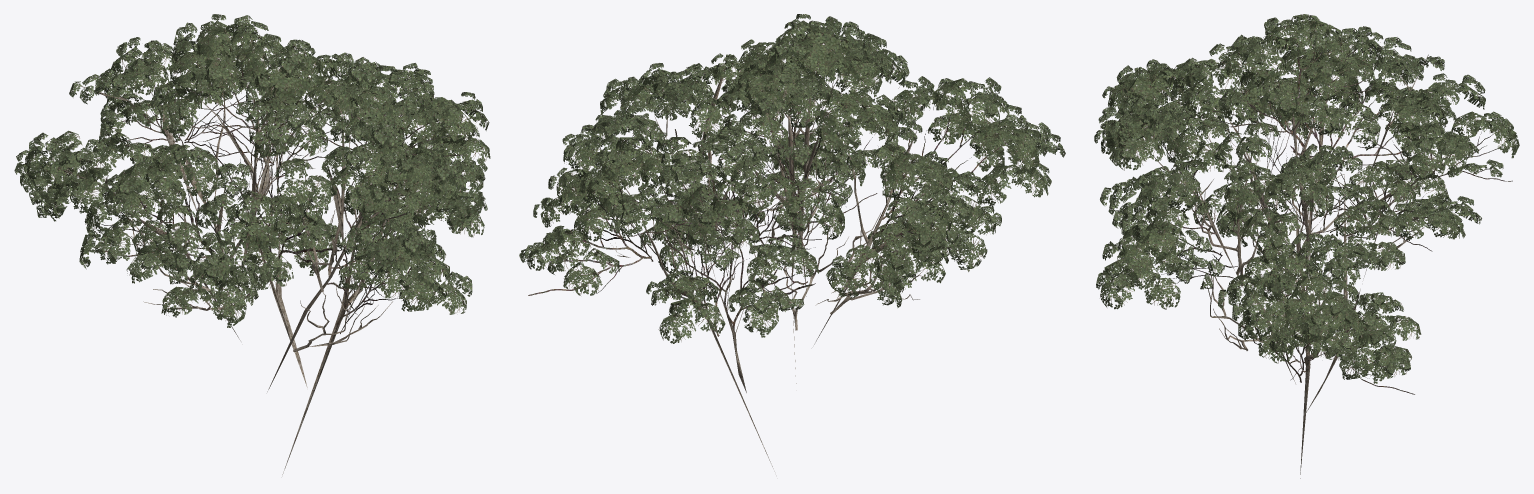
Rendered from arvore-b.glb.
The picture shows the model from 3 angles, left to right: view 1: azimuth 30°, elevation 25°; view 2: azimuth 150°, elevation 25°; view 3: azimuth 270°, elevation 25°; orthographic projection. The views are drawn at different scales.
Parts seen in each view (by area): view 1: Mesh_LEAFS_0, Mesh_trunk_0, Mesh_branches_0; view 2: Mesh_LEAFS_0, Mesh_branches_0, Mesh_trunk_0; view 3: Mesh_LEAFS_0, Mesh_trunk_0, Mesh_branches_0.
Boxes of the visible parts, box(x1,y1,x2,y2) form: Mesh_LEAFS_0: box(14, 14, 490, 327); Mesh_trunk_0: box(57, 85, 424, 474); Mesh_branches_0: box(66, 65, 463, 333); Mesh_LEAFS_0: box(519, 14, 1065, 343); Mesh_branches_0: box(528, 67, 1006, 336); Mesh_trunk_0: box(610, 66, 942, 471); Mesh_LEAFS_0: box(1094, 14, 1519, 383); Mesh_trunk_0: box(1142, 54, 1450, 478); Mesh_branches_0: box(1138, 35, 1512, 394).
Bounding box in the file's own units: 15.11 × 15.08 × 13.26.
3 materials, 3 textured.
